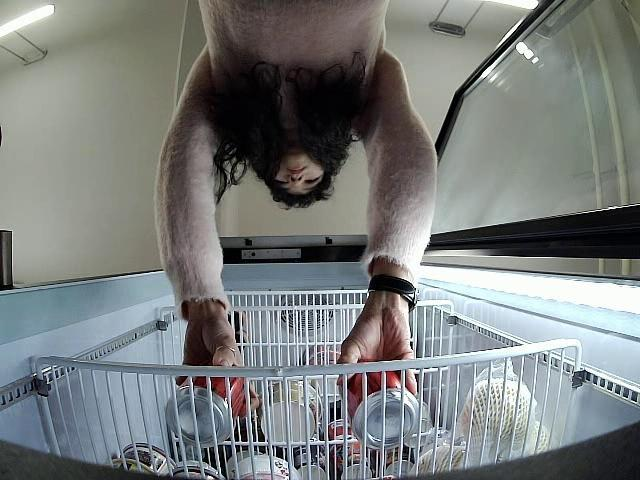11_cocaColaZero: (342, 359, 419, 448), (168, 369, 247, 444)
